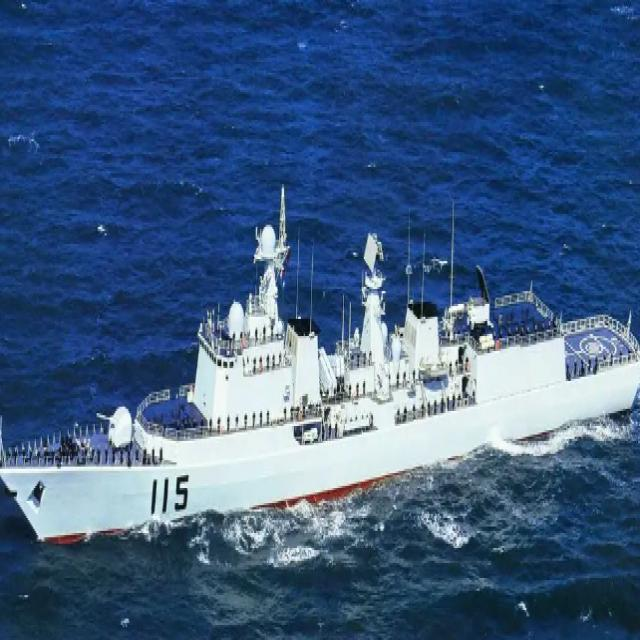navalvessels: (0, 180, 640, 540)
